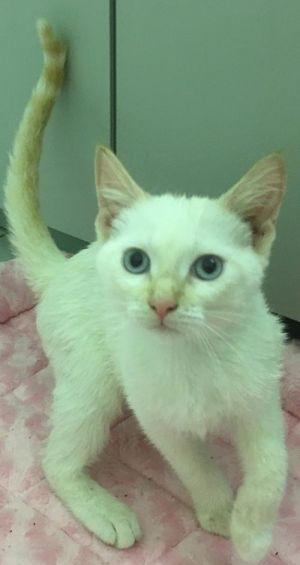siamese: (81, 141, 296, 351)
